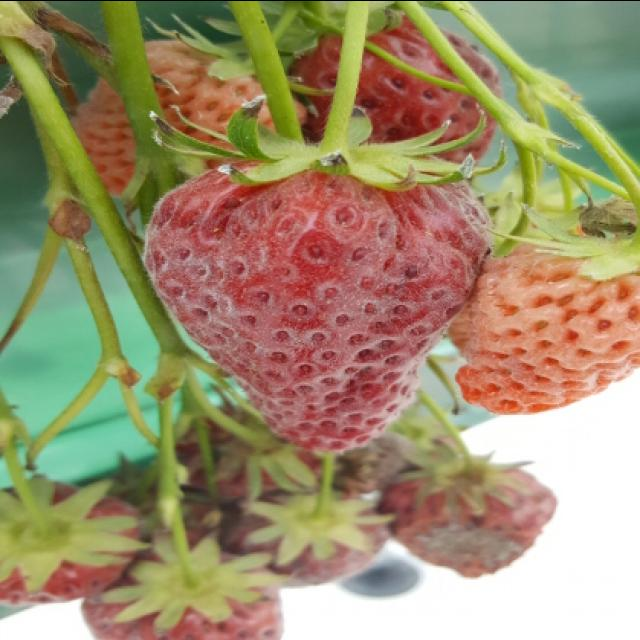Powdery Mildew Fruit: (142, 144, 493, 455)
